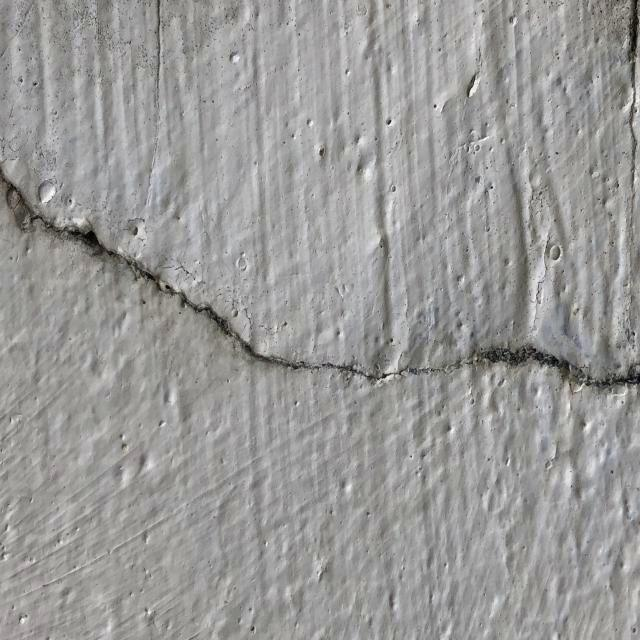SurfaceCrack: (0, 131, 639, 429)
